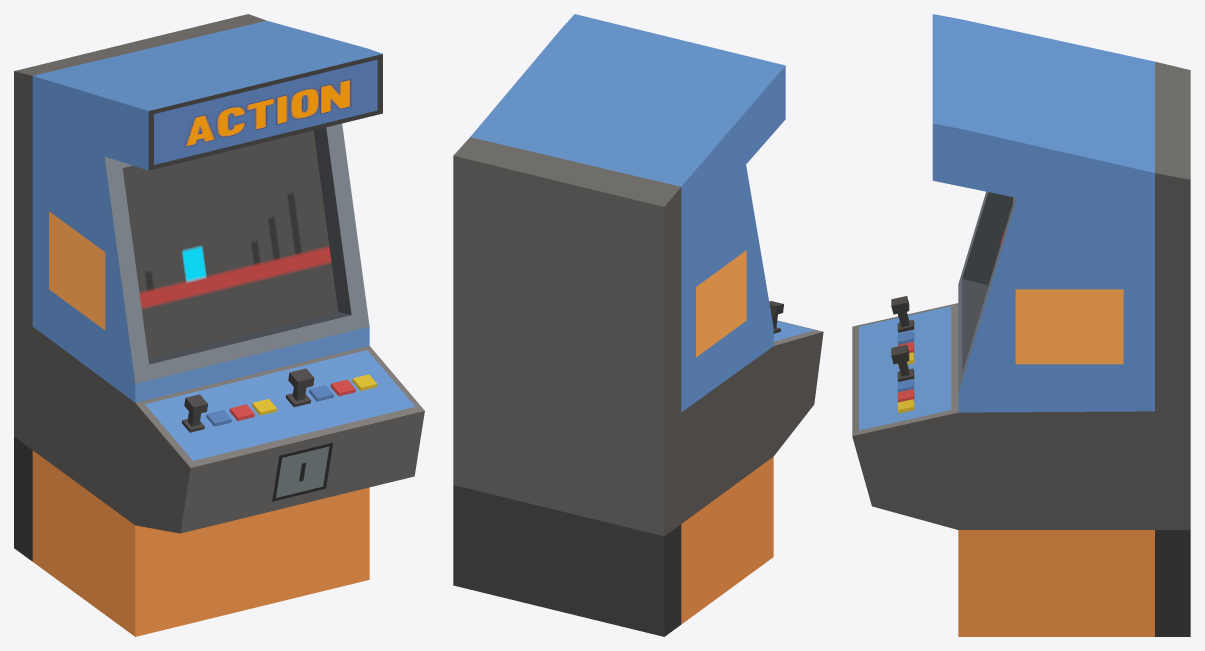
File: Arcade1.glb
The picture shows the model from 3 angles, left to right: view 1: azimuth 30°, elevation 25°; view 2: azimuth 150°, elevation 25°; view 3: azimuth 270°, elevation 25°; orthographic projection. The views are drawn at different scales.
Parts seen in each view (by area): view 1: SI_Prop_ArcadeMachine_01; view 2: SI_Prop_ArcadeMachine_01; view 3: SI_Prop_ArcadeMachine_01.
Part boxes in pixels (x1,y1,x2,y2): SI_Prop_ArcadeMachine_01: (14,14,424,636); SI_Prop_ArcadeMachine_01: (453,14,823,636); SI_Prop_ArcadeMachine_01: (852,14,1190,636).
Bounding box in the file's own units: 0.0128 × 0.028 × 0.0168.
Materials: 1 (1 with a texture image).
